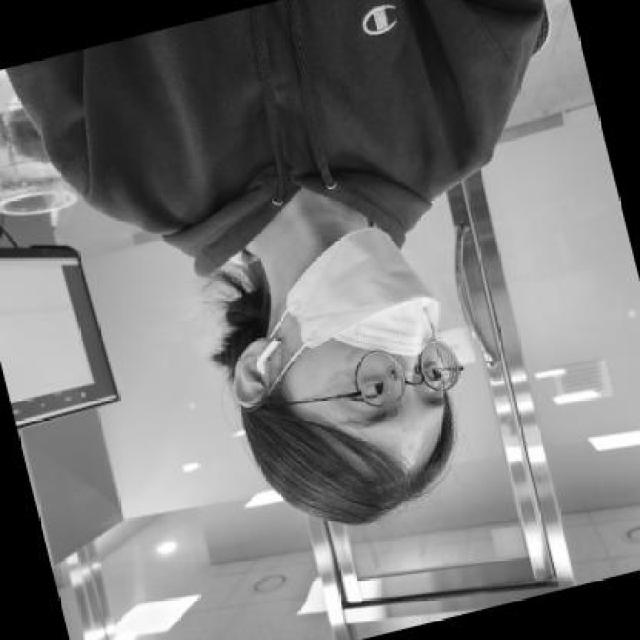earphone: (251, 320, 285, 394)
laptop_computer: (0, 197, 150, 486)
